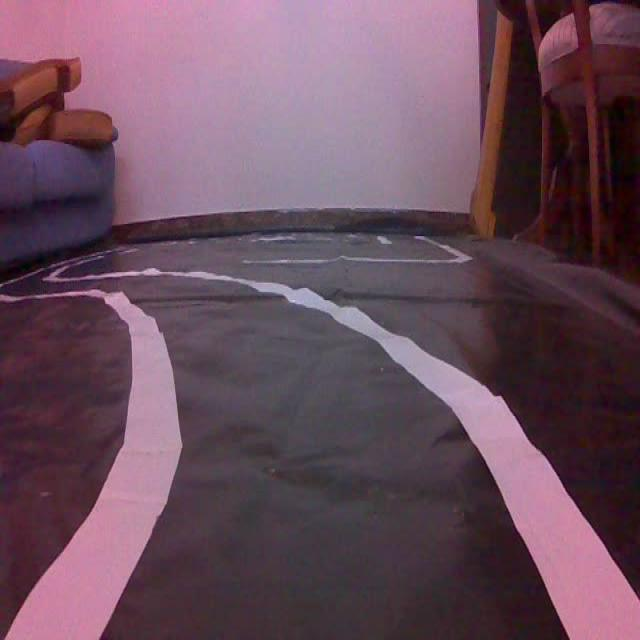LineaCarril: (140, 268, 640, 638), (0, 292, 182, 638)
